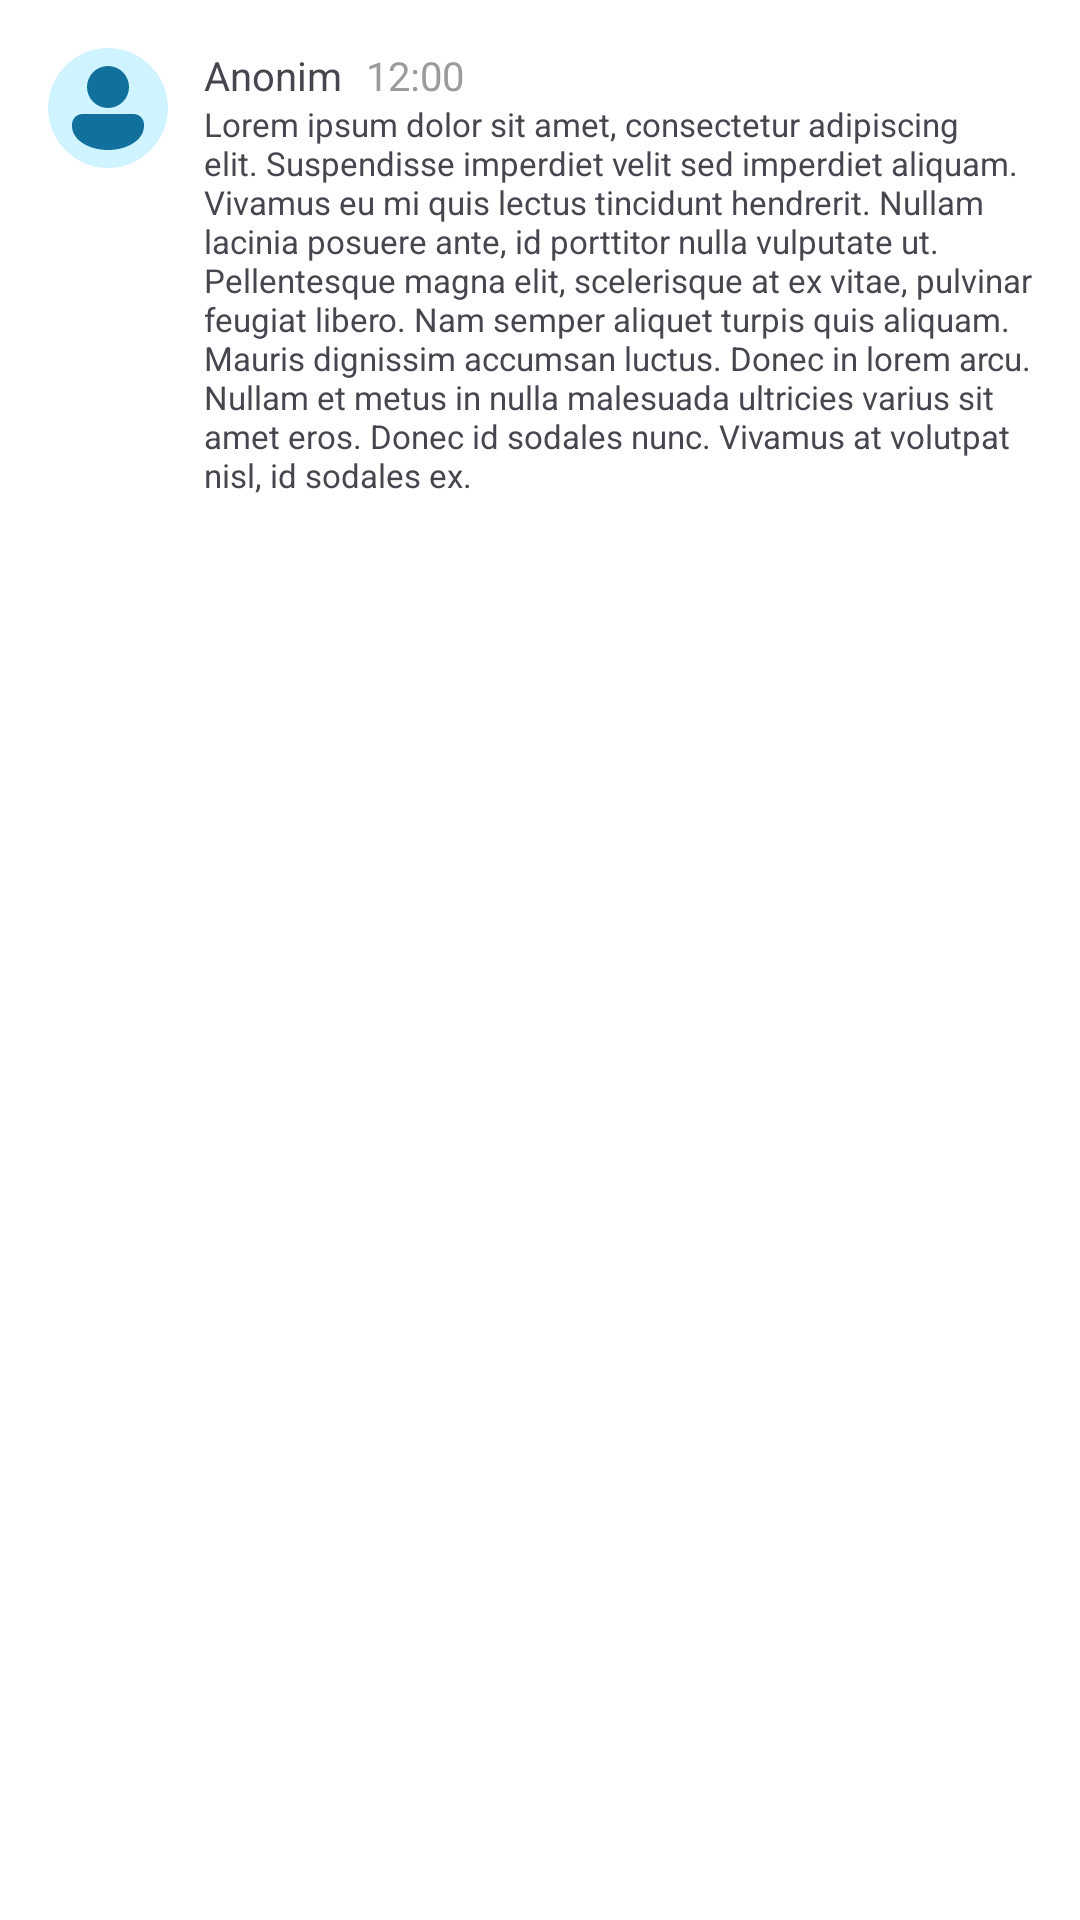

Named icons in this screenshot (1080x1920) and their bounding boxes, Rect(x1, y1, x2, y2):
user: Rect(48, 48, 168, 168)
